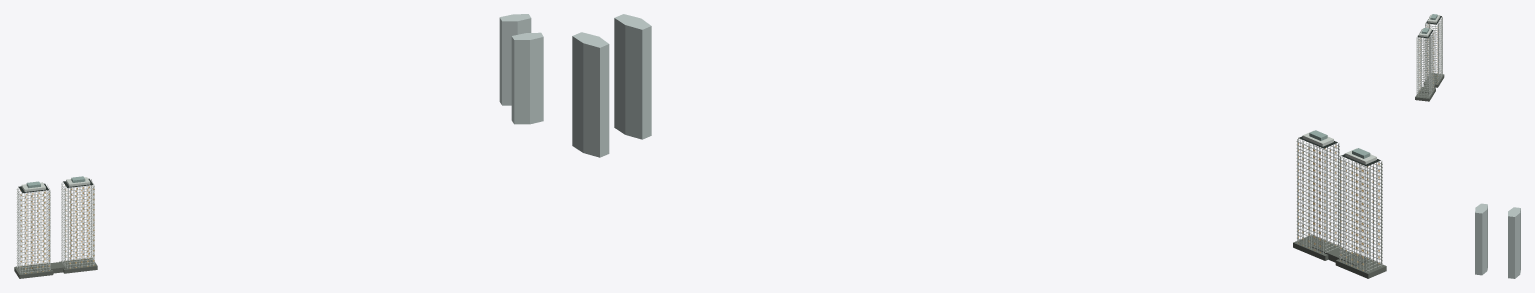
File: cnooc-twins.glb
3 renders of one model, left to right at view 1: azimuth 30°, elevation 25°; view 2: azimuth 150°, elevation 25°; view 3: azimuth 270°, elevation 25°, orthographic. The views are drawn at different scales.
Visible parts, largest first — view 1: envelope, fins, floor_bands, night_windows, podium, podium_link; view 2: envelope, fins, floor_bands, night_windows, podium, podium_link; view 3: envelope, fins, floor_bands, podium, podium_link, crown_step, crown_screen.
Boxes of the visible parts, bbox=[...] form: envelope: bbox=[499, 14, 543, 124]; fins: bbox=[17, 179, 94, 273]; floor_bands: bbox=[16, 183, 94, 272]; night_windows: bbox=[20, 185, 94, 273]; podium: bbox=[14, 258, 97, 278]; podium_link: bbox=[31, 260, 80, 273]; envelope: bbox=[572, 14, 651, 157]; fins: bbox=[1297, 137, 1382, 271]; floor_bands: bbox=[1296, 139, 1382, 270]; night_windows: bbox=[1298, 143, 1379, 270]; podium: bbox=[1293, 235, 1386, 278]; podium_link: bbox=[1311, 241, 1367, 265]; envelope: bbox=[1475, 203, 1520, 278]; fins: bbox=[1416, 15, 1442, 97]; floor_bands: bbox=[1416, 17, 1442, 97]; podium: bbox=[1415, 73, 1444, 101]; podium_link: bbox=[1420, 78, 1438, 93]; crown_step: bbox=[1419, 14, 1440, 37]; crown_screen: bbox=[1421, 14, 1437, 33].
Size of the model in its own units: 1473 by 222 by 324.
